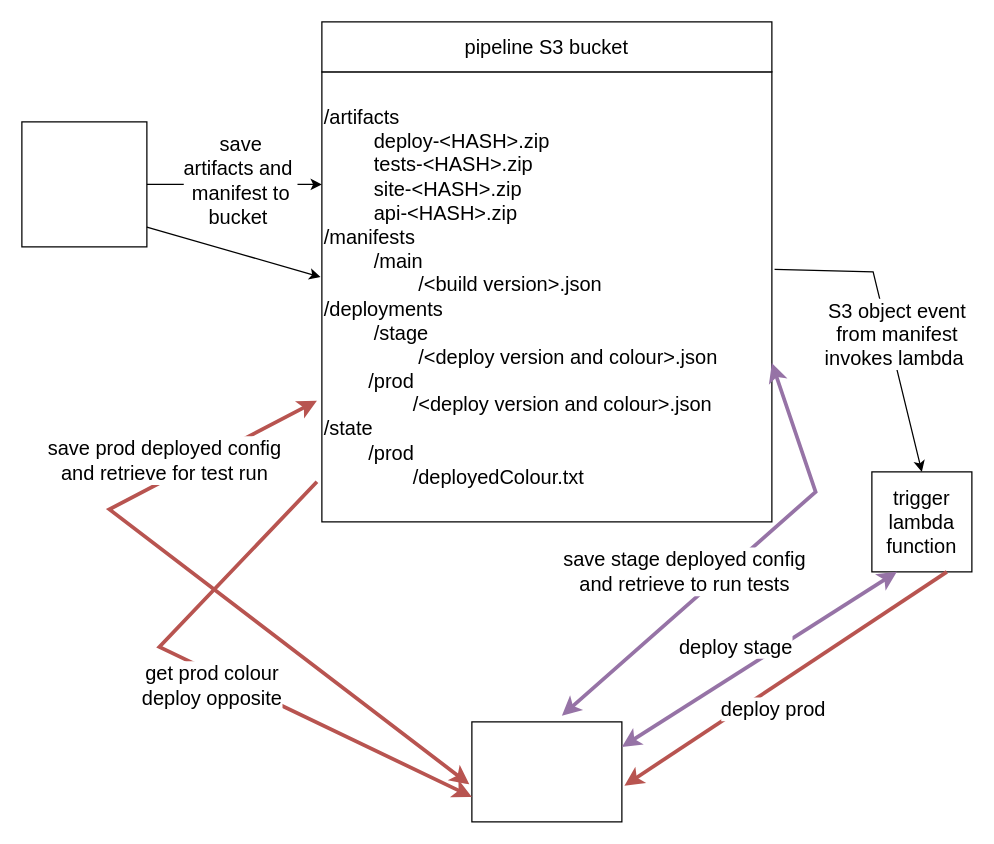
This 994x844 diagram has some shape labels left out. Each missing label, with the centre of its shape:
App Repo Github Actions: the point at 84,184
Pipeline repo Github Actions: the point at 546,771
